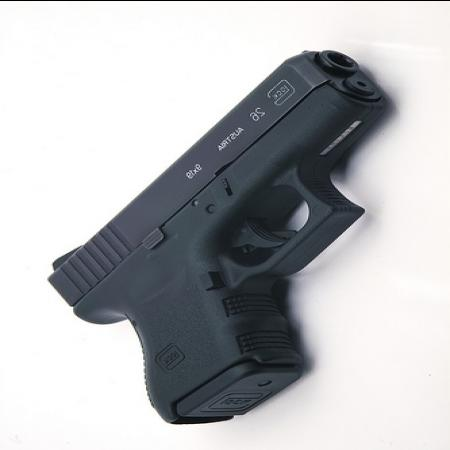Pistol: (46, 36, 390, 426)
